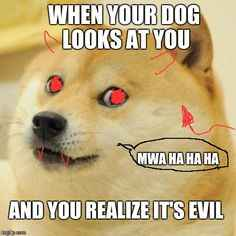doge: (5, 7, 228, 234)
